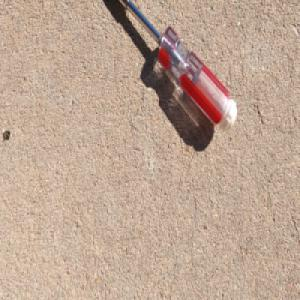Screwdriver: (116, 0, 239, 134)
